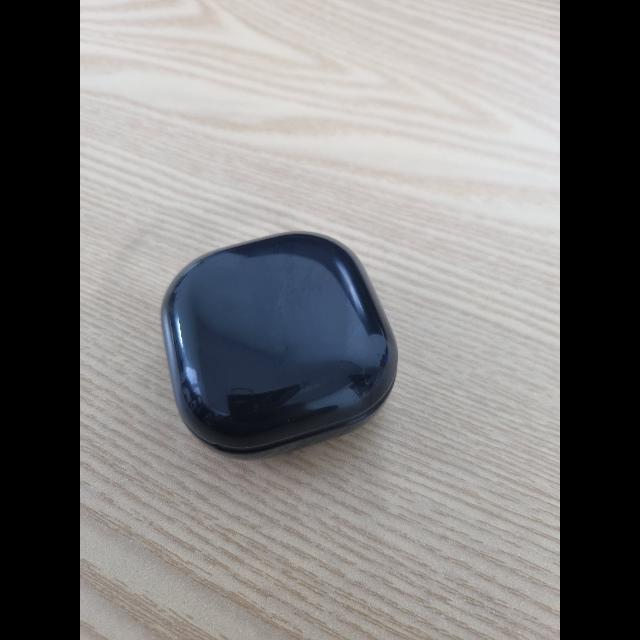buds_live: (160, 229, 402, 466)
